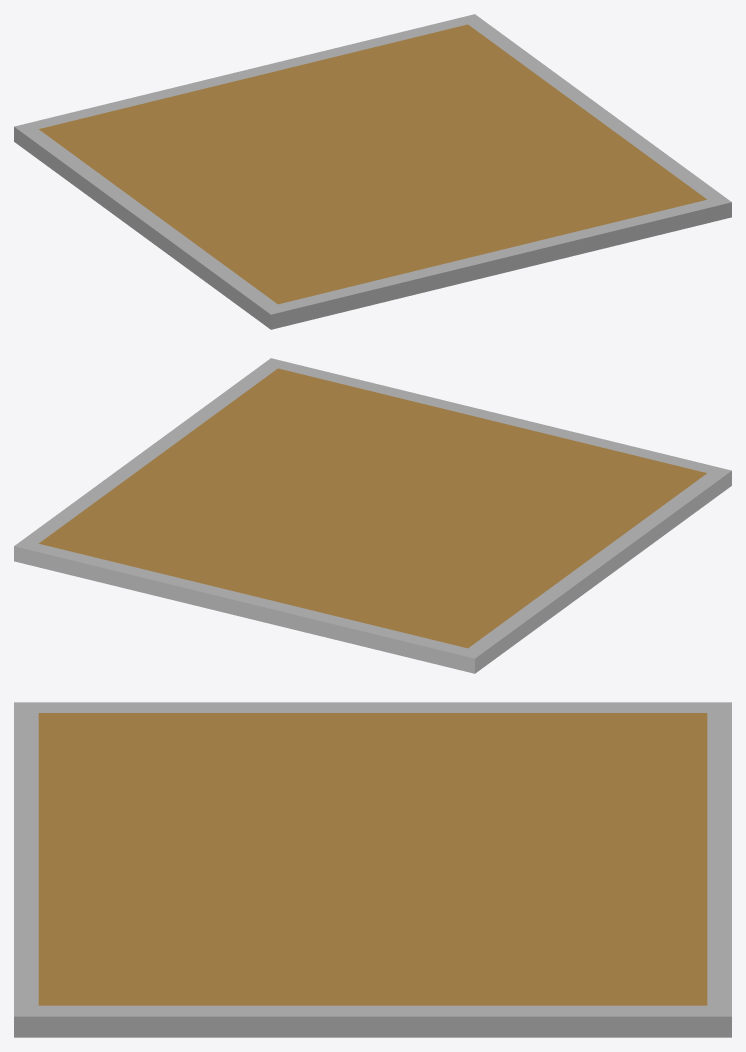
Rendered from PinBoard2.glb.
3 views of the same model, one above another, from view 1: azimuth 30°, elevation 25°; view 2: azimuth 150°, elevation 25°; view 3: azimuth 270°, elevation 25° (orthographic). The views are drawn at different scales.
Parts seen in each view (by area): view 1: SO_Pinboard_02; view 2: SO_Pinboard_02; view 3: SO_Pinboard_02.
Boxes of the visible parts, <box> form: SO_Pinboard_02: <box>14,14,731,329</box>; SO_Pinboard_02: <box>14,358,731,673</box>; SO_Pinboard_02: <box>14,702,731,1037</box>.
Bounding box in the file's own units: 3.24 × 0.1018 × 3.13.
Materials: 1 (1 with a texture image).
